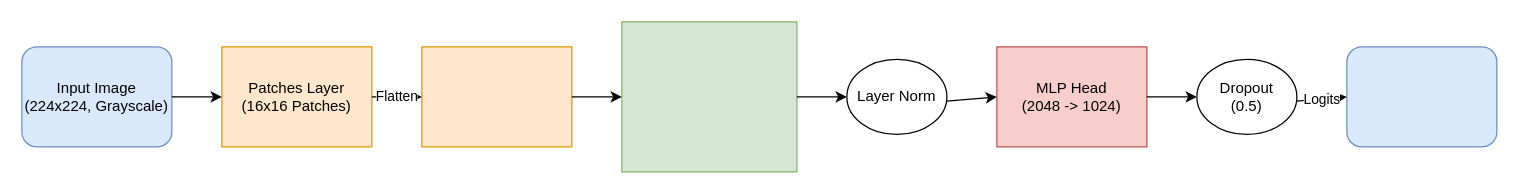
The diagram is 1519 pixels wide and 194 high, and some of its shapes have lost their labels. The centre of each missing label's shape, as x and y in pixels:
"Output (Softmax: 2 Classes)" goes at (1421,96).
"Patch Encoder (Projection + Pos Emb)" goes at (496,96).
"Transformer Encoder (8 Layers, 4 Heads)" goes at (709,96).
